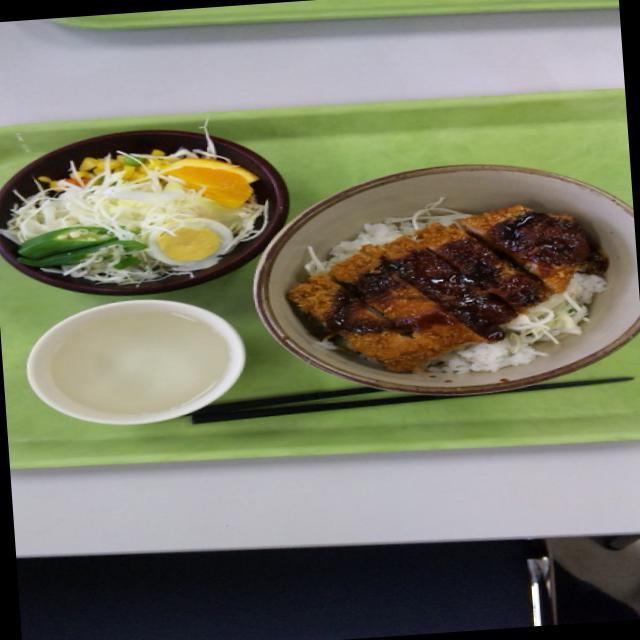Green Salad: (2, 138, 268, 286)
